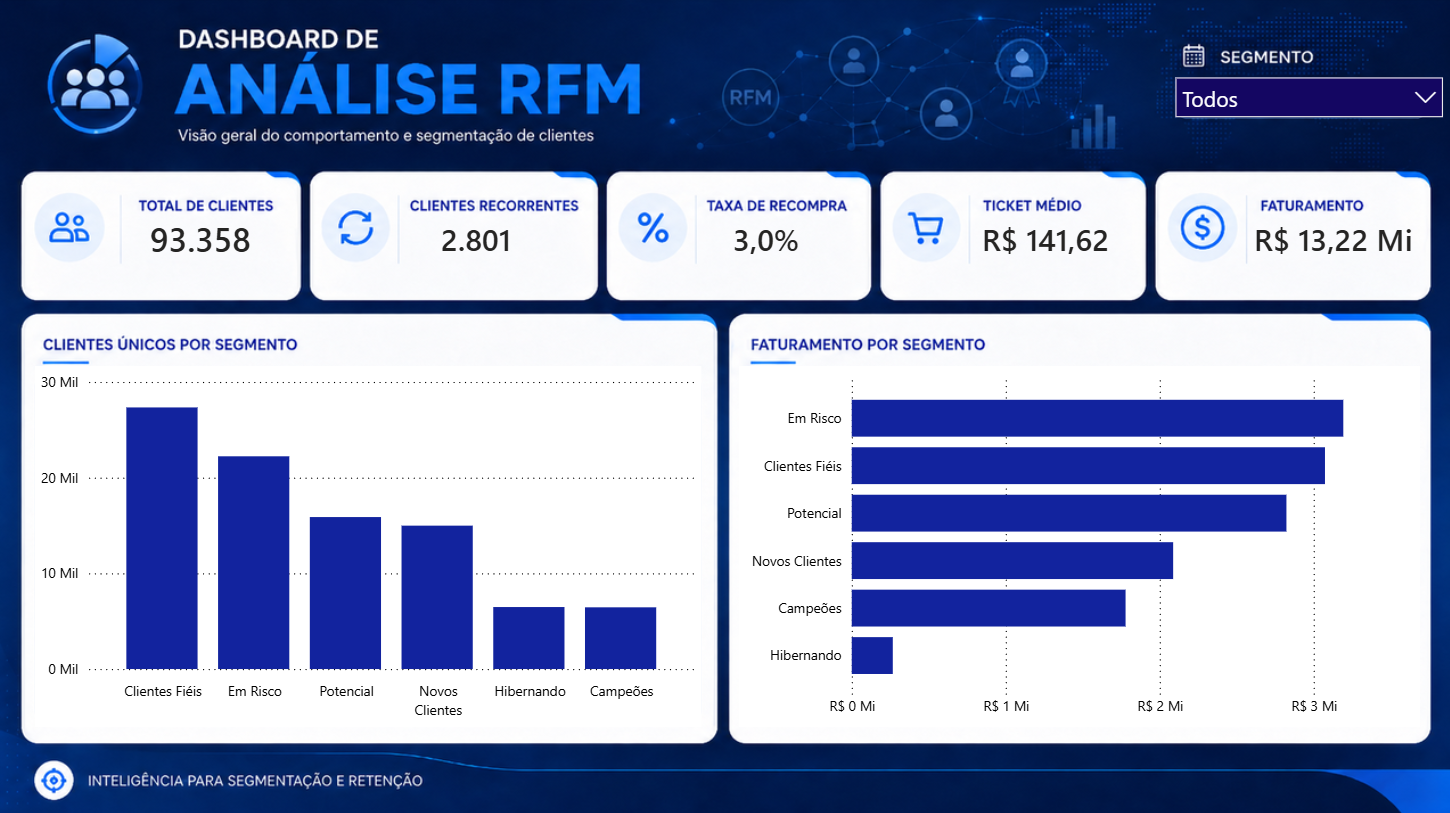

The dashboard page shown, as its layout file describes it:
{"tool":"powerbi","page":{"name":"RFM","canvas":[1280,720],"ordinal":2},"visuals":[{"type":"cardVisual","fields":{"Data":["rfm_clientes.Clientes Únicos"]},"box":[105,171.2,280.1,77.8],"z":0},{"type":"cardVisual","fields":{"Data":["rfm_clientes.Clientes Recorrentes"]},"box":[360.9,171.2,205.2,77.8],"z":1000},{"type":"cardVisual","fields":{"Data":["rfm_clientes.Taxa de Recompra"]},"box":[617.6,171.2,205.2,77.8],"z":2000},{"type":"cardVisual","fields":{"Data":["rfm_clientes.Ticket Médio Cliente"]},"box":[835.5,171.2,205.2,77.8],"z":3000},{"type":"cardVisual","fields":{"Data":["pedidos_entregues.Faturamento Total"]},"box":[1074.8,171.2,205.2,77.8],"z":3001},{"type":"clusteredColumnChart","fields":{"Category":["rfm_clientes.segmento"],"Y":["rfm_clientes.Clientes Únicos"]},"box":[33.1,322.9,584.6,317.1],"z":3002},{"type":"clusteredBarChart","fields":{"Category":["rfm_clientes.segmento"],"Y":["pedidos_entregues.Faturamento Total"]},"box":[651.7,322.9,598.2,317.1],"z":3003},{"type":"slicer","fields":{"Values":["rfm_clientes.segmento"]},"box":[1025,60,255,57.5],"z":3007}]}

Visuals, with their boxes in screenshot pixels (x1, y1, x2, y2), scaled from the page's 1280x720 canvas onto the 1450x813 screenshot:
cardVisual - rfm_clientes.Clientes Únicos: detection(119, 193, 436, 281)
cardVisual - rfm_clientes.Clientes Recorrentes: detection(409, 193, 641, 281)
cardVisual - rfm_clientes.Taxa de Recompra: detection(700, 193, 932, 281)
cardVisual - rfm_clientes.Ticket Médio Cliente: detection(946, 193, 1179, 281)
cardVisual - pedidos_entregues.Faturamento Total: detection(1218, 193, 1449, 281)
clusteredColumnChart - rfm_clientes.segmento x rfm_clientes.Clientes Únicos: detection(37, 365, 700, 723)
clusteredBarChart - rfm_clientes.segmento x pedidos_entregues.Faturamento Total: detection(738, 365, 1416, 723)
slicer - rfm_clientes.segmento: detection(1161, 68, 1449, 133)
